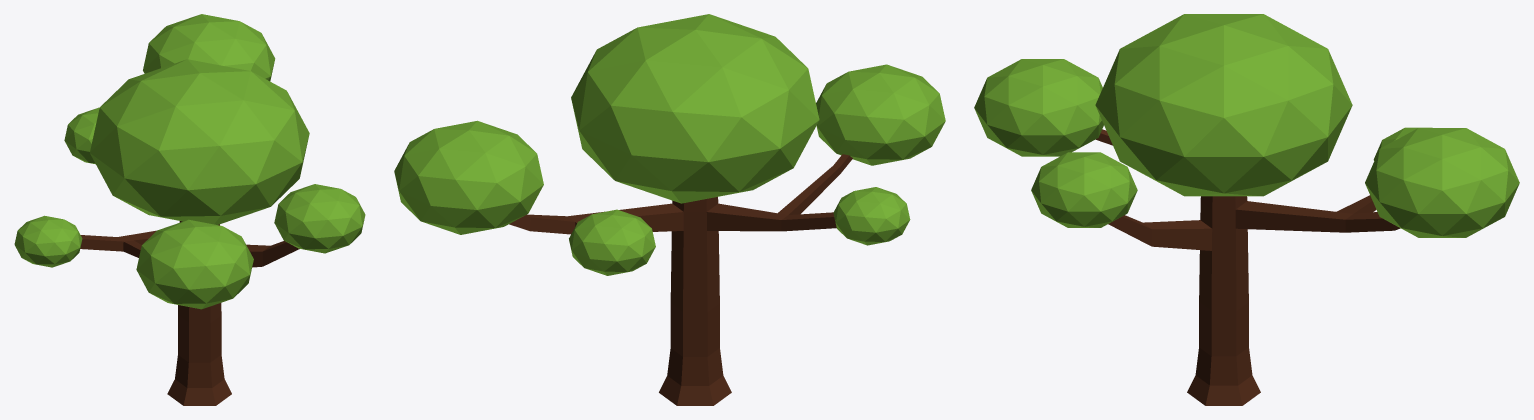
The model's file is tree.fbx.
3 renders of one model, left to right at view 1: azimuth 30°, elevation 25°; view 2: azimuth 150°, elevation 25°; view 3: azimuth 270°, elevation 25°, orthographic. The views are drawn at different scales.
Parts seen in each view (by area): view 1: BigBush, Bush5, Tree, Bush1, Bush2, Bush3, Bush4; view 2: BigBush, Tree, Bush1, Bush5, Bush4, Bush3; view 3: BigBush, Tree, Bush1, Bush5, Bush2.
Part boxes in pixels (box(x1,y1,x2,y2)): BigBush: box(90, 59, 309, 224); Bush5: box(136, 219, 253, 309); Tree: box(80, 221, 299, 405); Bush1: box(143, 14, 275, 81); Bush2: box(274, 184, 365, 253); Bush3: box(14, 215, 82, 267); Bush4: box(64, 107, 99, 164); BigBush: box(571, 14, 819, 203); Tree: box(509, 154, 852, 405); Bush1: box(394, 120, 543, 234); Bush5: box(816, 64, 945, 165); Bush4: box(569, 209, 655, 275); Bush3: box(833, 187, 910, 245); BigBush: box(1095, 14, 1352, 196); Tree: box(1096, 129, 1400, 405); Bush1: box(1365, 128, 1519, 237); Bush5: box(974, 59, 1103, 156); Bush2: box(1031, 152, 1137, 227).
Size of the model in its own units: 908 by 812 by 1093.
